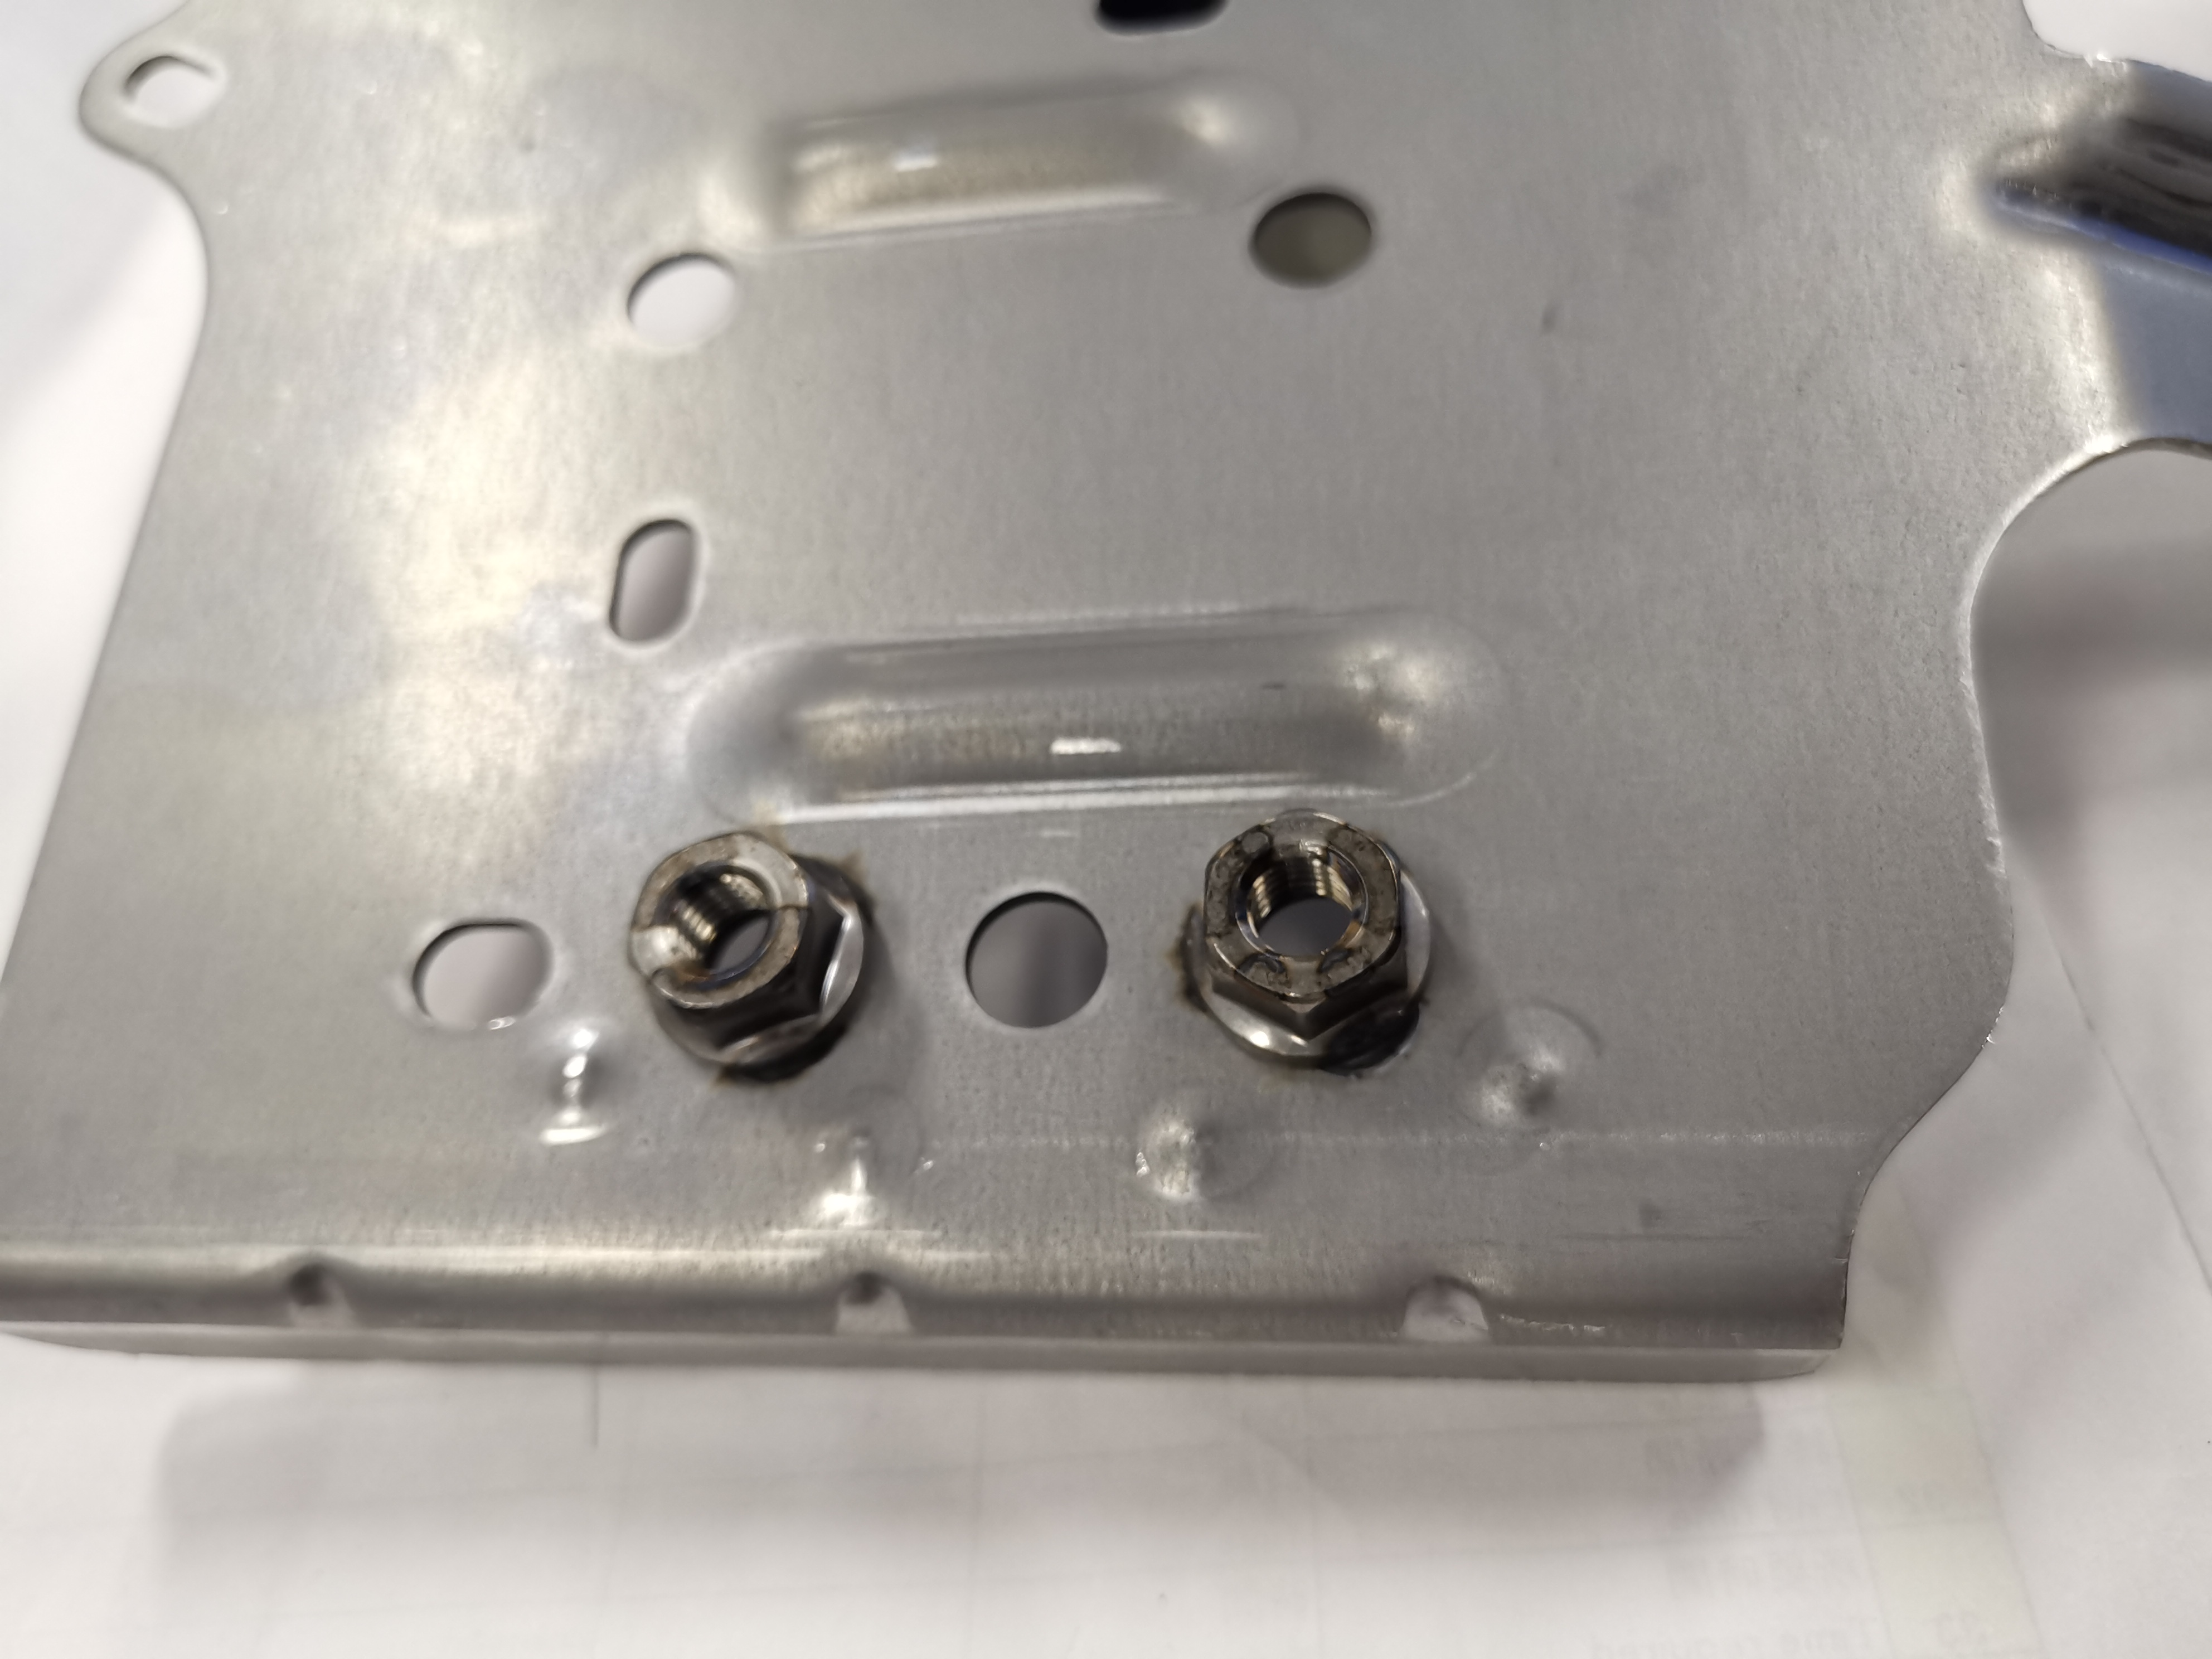dog: (1172, 805, 1444, 1082), (622, 824, 885, 1082)
